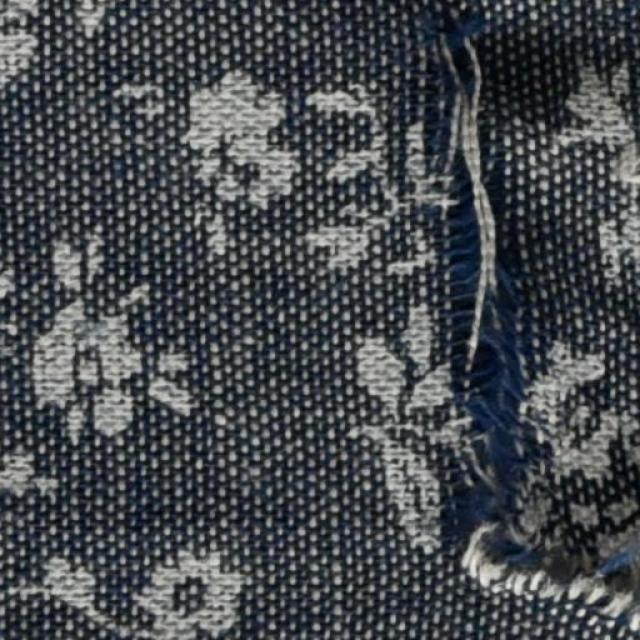Snag: (424, 1, 636, 616)
